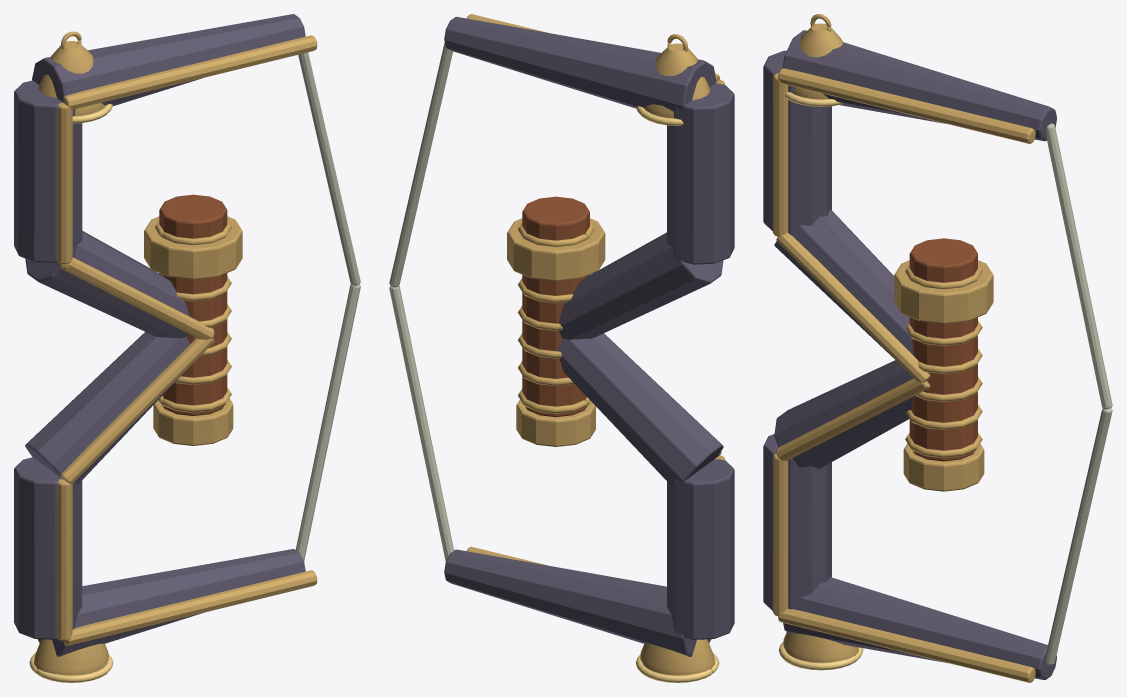
The model's file is item_031.glb.
3 renders of one model, left to right at view 1: azimuth 30°, elevation 25°; view 2: azimuth 150°, elevation 25°; view 3: azimuth 330°, elevation 25°, orthographic.
Parts seen in each view (by area): view 1: Item_031_bell_shortbow; view 2: Item_031_bell_shortbow; view 3: Item_031_bell_shortbow.
Part boxes in pixels (box(x1,y1,x2,y2)): Item_031_bell_shortbow: box(14, 14, 360, 682); Item_031_bell_shortbow: box(389, 14, 734, 682); Item_031_bell_shortbow: box(763, 14, 1112, 682).
Size of the model in its own units: 0.5881 by 1.07 by 0.1472.
